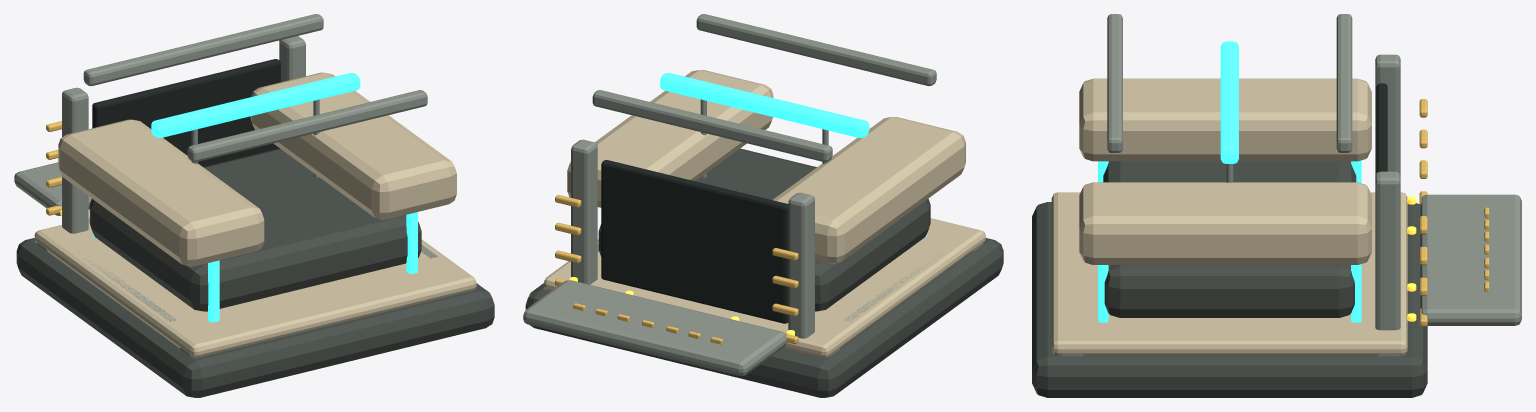
The model's file is factory.glb.
3 views of the same model, side by side, from view 1: azimuth 30°, elevation 25°; view 2: azimuth 150°, elevation 25°; view 3: azimuth 270°, elevation 25° (orthographic). The views are drawn at different scales.
Parts seen in each view (by area): view 1: Welded hangar chassis, Layered armored foundation.003, Ceramic foundation cap.003, Left armored roof shoulder, Right armored roof shoulder, Dark vehicle bay recess, Crane runway, Crane runway.001, Overhead bridge crane, Hangar load column, Hydraulic deployment ramp, Hangar load column.001 (+3 smaller); view 2: Dark vehicle bay recess, Left armored roof shoulder, Hydraulic deployment ramp, Layered armored foundation.003, Ceramic foundation cap.003, Right armored roof shoulder, Welded hangar chassis, Crane runway, Crane runway.001, Overhead bridge crane, Hangar load column, Hangar load column.001 (+1 smaller); view 3: Right armored roof shoulder, Layered armored foundation.003, Left armored roof shoulder, Ceramic foundation cap.003, Welded hangar chassis, Hydraulic deployment ramp, Hangar load column.001, Crane runway.001, Overhead bridge crane, Crane runway, Hangar load column, Dark vehicle bay recess (+2 smaller).
Part boxes in pixels (x1,y1,x2,y2): Welded hangar chassis: (89, 148, 421, 311); Layered armored foundation.003: (16, 238, 494, 397); Ceramic foundation cap.003: (34, 218, 476, 357); Left armored roof shoulder: (58, 119, 264, 266); Right armored roof shoulder: (250, 72, 456, 219); Dark vehicle bay recess: (92, 59, 280, 166); Crane runway: (187, 90, 427, 162); Crane runway.001: (83, 14, 323, 86); Overhead bridge crane: (151, 73, 360, 137); Hangar load column: (62, 87, 88, 233); Hydraulic deployment ramp: (14, 162, 91, 215); Hangar load column.001: (279, 36, 305, 82); Dark vehicle bay recess: (601, 160, 788, 323); Left armored roof shoulder: (772, 117, 965, 263); Hydraulic deployment ramp: (523, 280, 786, 375); Layered armored foundation.003: (525, 238, 1003, 397); Ceramic foundation cap.003: (543, 218, 985, 357); Right armored roof shoulder: (567, 70, 773, 207); Welded hangar chassis: (598, 148, 930, 311); Crane runway: (696, 14, 936, 86); Crane runway.001: (592, 90, 832, 162); Overhead bridge crane: (660, 73, 869, 137); Hangar load column: (788, 192, 814, 338); Hangar load column.001: (571, 139, 597, 284); Right armored roof shoulder: (1079, 182, 1371, 264); Layered armored foundation.003: (1032, 202, 1427, 397); Left armored roof shoulder: (1079, 78, 1371, 161); Ceramic foundation cap.003: (1051, 192, 1407, 355); Welded hangar chassis: (1103, 161, 1356, 317); Hydraulic deployment ramp: (1420, 194, 1521, 325); Hangar load column.001: (1375, 171, 1400, 330); Crane runway.001: (1336, 14, 1352, 152); Overhead bridge crane: (1220, 41, 1238, 163); Crane runway: (1107, 14, 1122, 152); Hangar load column: (1375, 54, 1400, 175); Dark vehicle bay recess: (1376, 83, 1387, 173).
Size of the model in its own units: 2.8 by 1.91 by 3.47.
